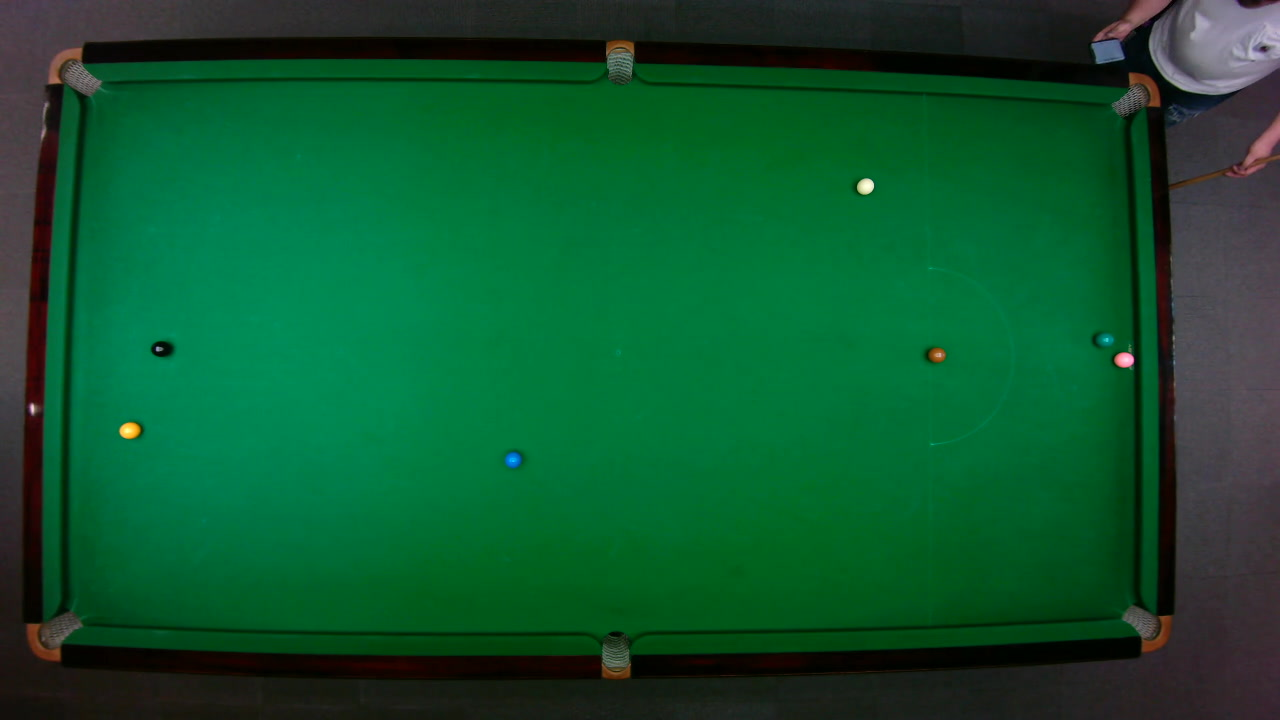bag: (24, 608, 84, 661), (45, 46, 101, 96), (1119, 603, 1172, 652), (1109, 71, 1160, 118), (600, 629, 630, 680), (605, 38, 633, 85)
black: (149, 339, 171, 357)
blue: (503, 449, 523, 468)
brown: (926, 346, 946, 362)
green: (1093, 330, 1114, 347)
pink: (1112, 350, 1135, 368)
white: (854, 176, 875, 195)
yellow: (117, 420, 142, 439)
zone: (927, 266, 1013, 445)
